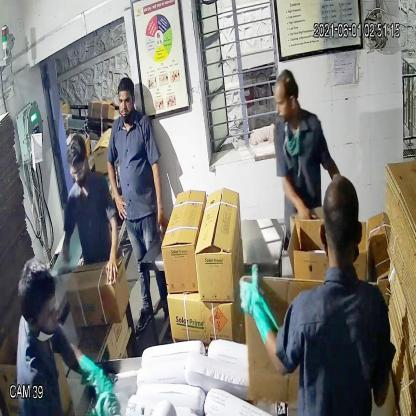goggles: (65, 159, 89, 184)
no_goggles: (115, 93, 135, 114)
